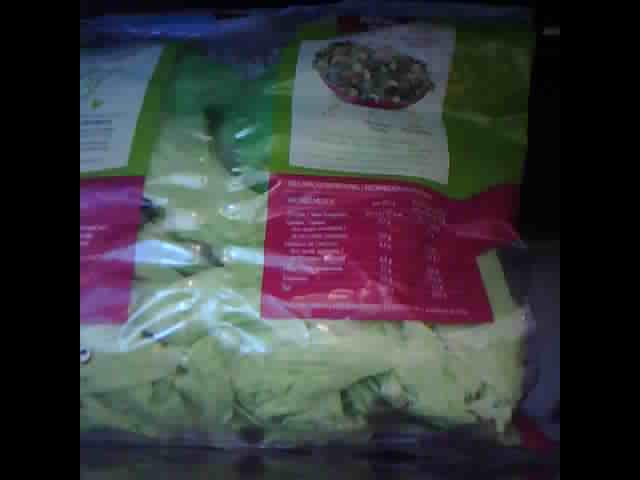florette: (83, 8, 539, 449)
